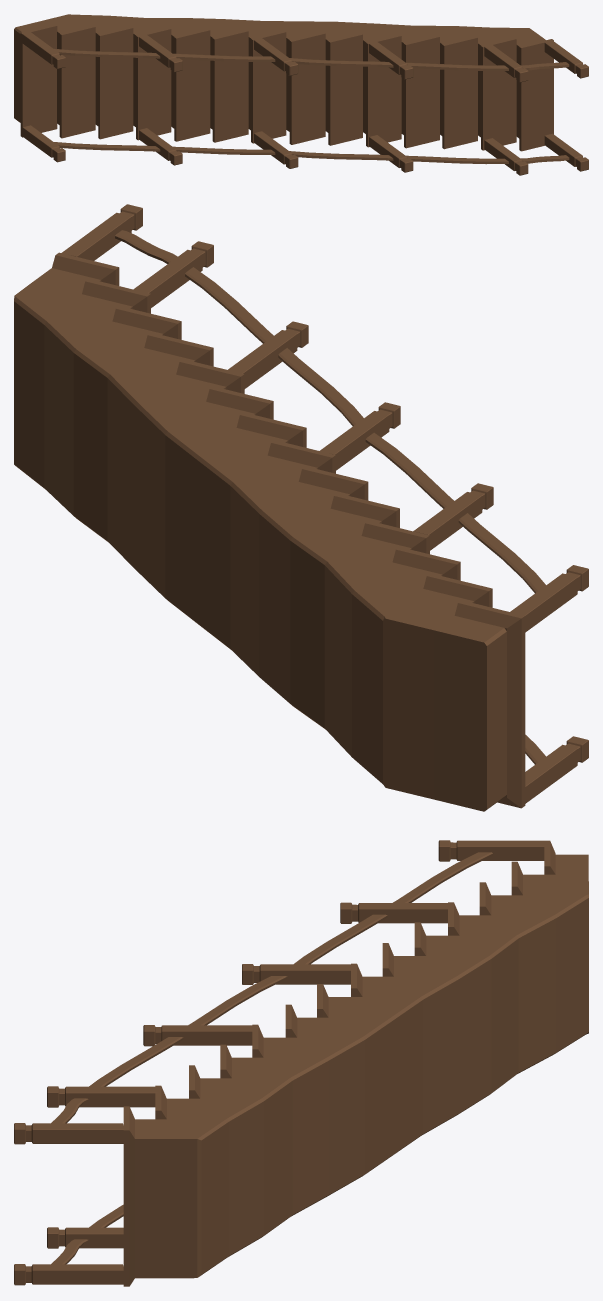
The model's file is Stair_03.fbx.
The picture shows the model from 3 angles, top to bottom: view 1: azimuth 30°, elevation 25°; view 2: azimuth 150°, elevation 25°; view 3: azimuth 270°, elevation 25°; orthographic projection. The views are drawn at different scales.
Parts seen in each view (by area): view 1: escaliers.plein.002; view 2: escaliers.plein.002; view 3: escaliers.plein.002.
Part boxes in pixels (x1,y1,x2,y2): escaliers.plein.002: (14,14,588,175); escaliers.plein.002: (14,204,588,811); escaliers.plein.002: (14,840,588,1286).
Bounding box in the file's own units: 383 × 96.51 × 321.
